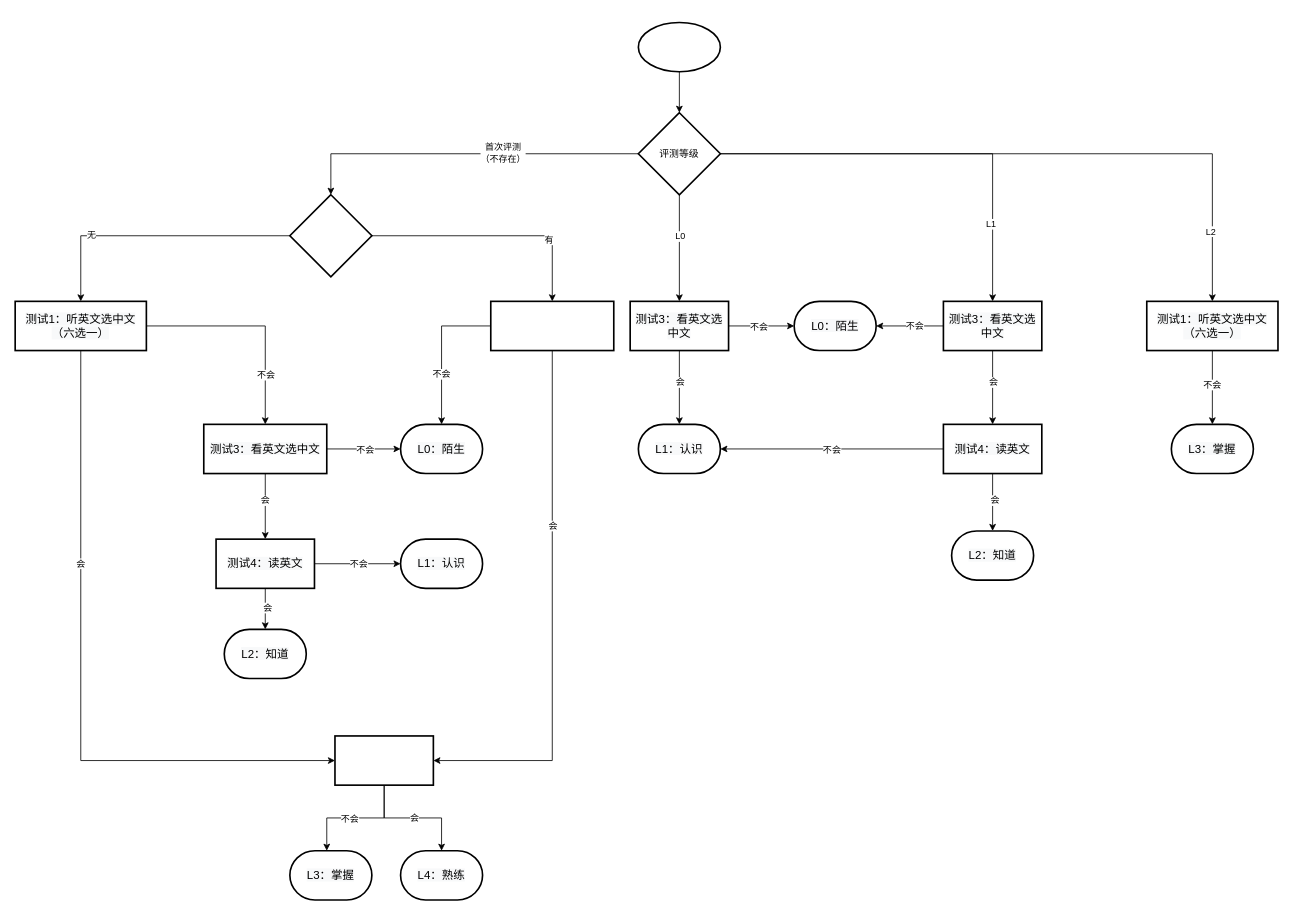
This 1292x914 diagram has some shape labels left out. The centre of each missing label's shape, as x and y in pixels:
开始: point 679,46
有无图片？: point 330,235
测试2：看图说英文 （3秒后显示中文）: point 552,325
测试5：拼写: point 384,760
